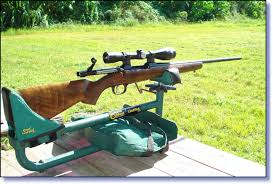Gun: (85, 51, 243, 96)
